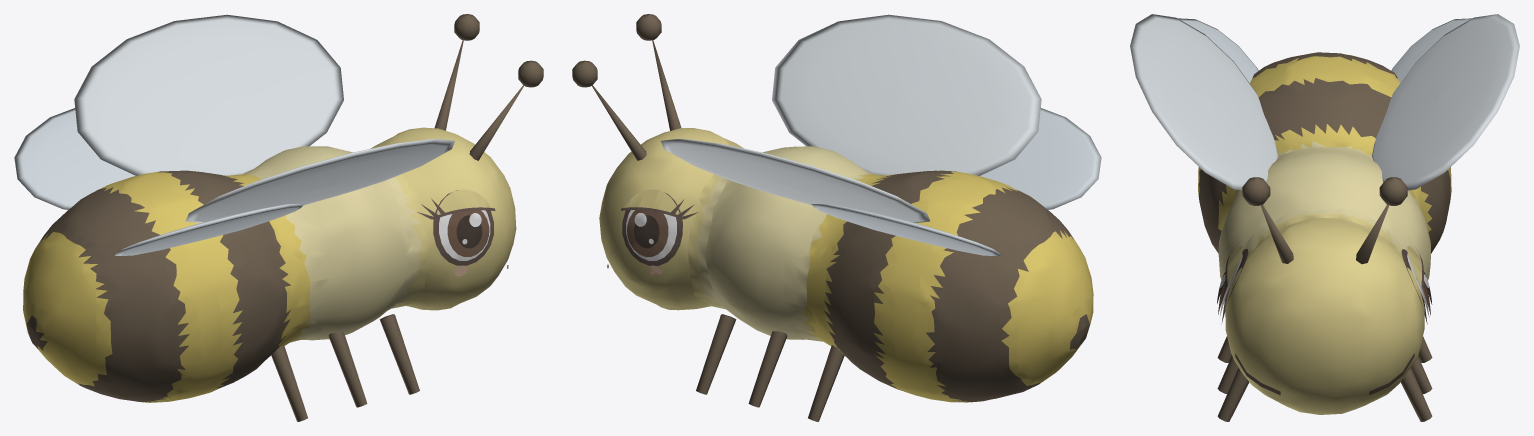
Rendered from bee.glb.
3 views of the same model, side by side, from view 1: azimuth 30°, elevation 25°; view 2: azimuth 150°, elevation 25°; view 3: azimuth 270°, elevation 25° (orthographic). The views are drawn at different scales.
Parts seen in each view (by area): view 1: bee; view 2: bee; view 3: bee.
Boxes of the visible parts, x1,y1,x2,y2 form: bee: [14, 14, 543, 421]; bee: [572, 14, 1101, 421]; bee: [1130, 14, 1519, 421].
Bounding box in the file's own units: 0.2 × 0.1191 × 0.131.
